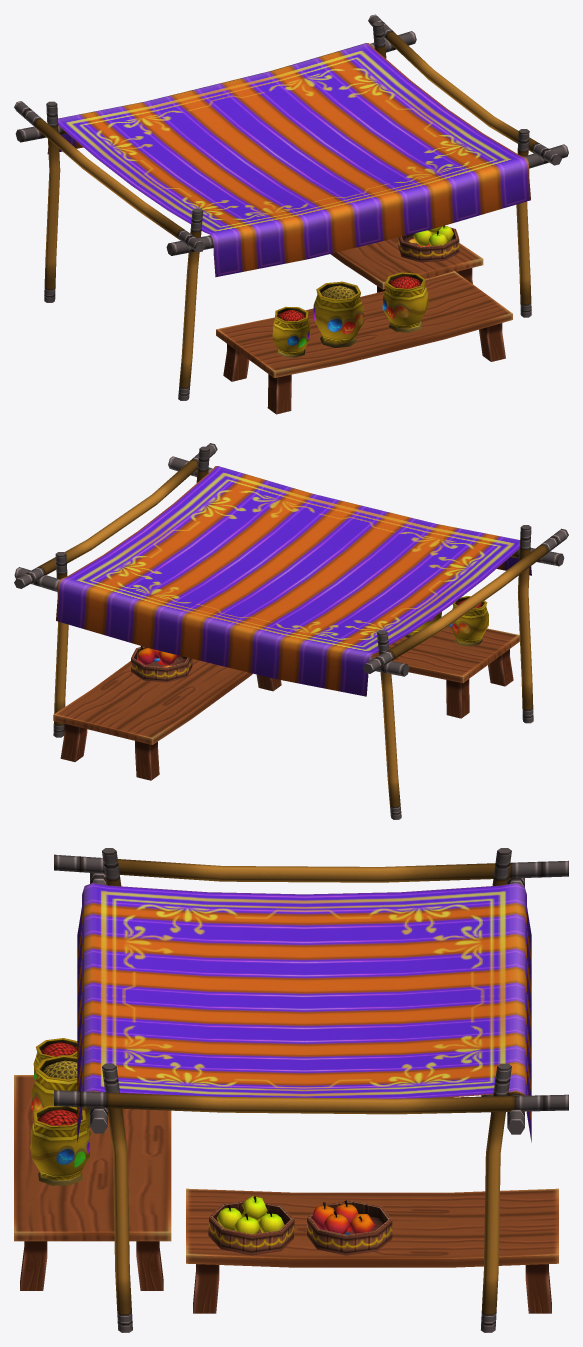
The model's file is Market_02.FBX.
3 views of the same model, one above another, from view 1: azimuth 30°, elevation 25°; view 2: azimuth 150°, elevation 25°; view 3: azimuth 270°, elevation 25° (orthographic). The views are drawn at different scales.
Visible parts, largest first — view 1: Market_02; view 2: Market_02; view 3: Market_02.
Part boxes in pixels (left/top/right/bottom): Market_02: left=14, top=14, right=568, bottom=414; Market_02: left=14, top=443, right=568, bottom=819; Market_02: left=14, top=848, right=568, bottom=1332.
Size of the model in its own units: 1.71 by 0.7863 by 1.53.
